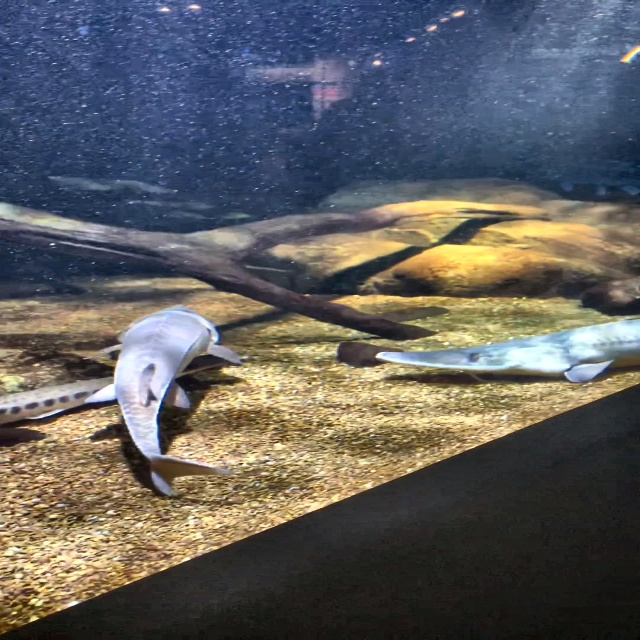fish: (0, 354, 249, 426), (373, 317, 639, 384)
shark: (89, 303, 245, 501)
